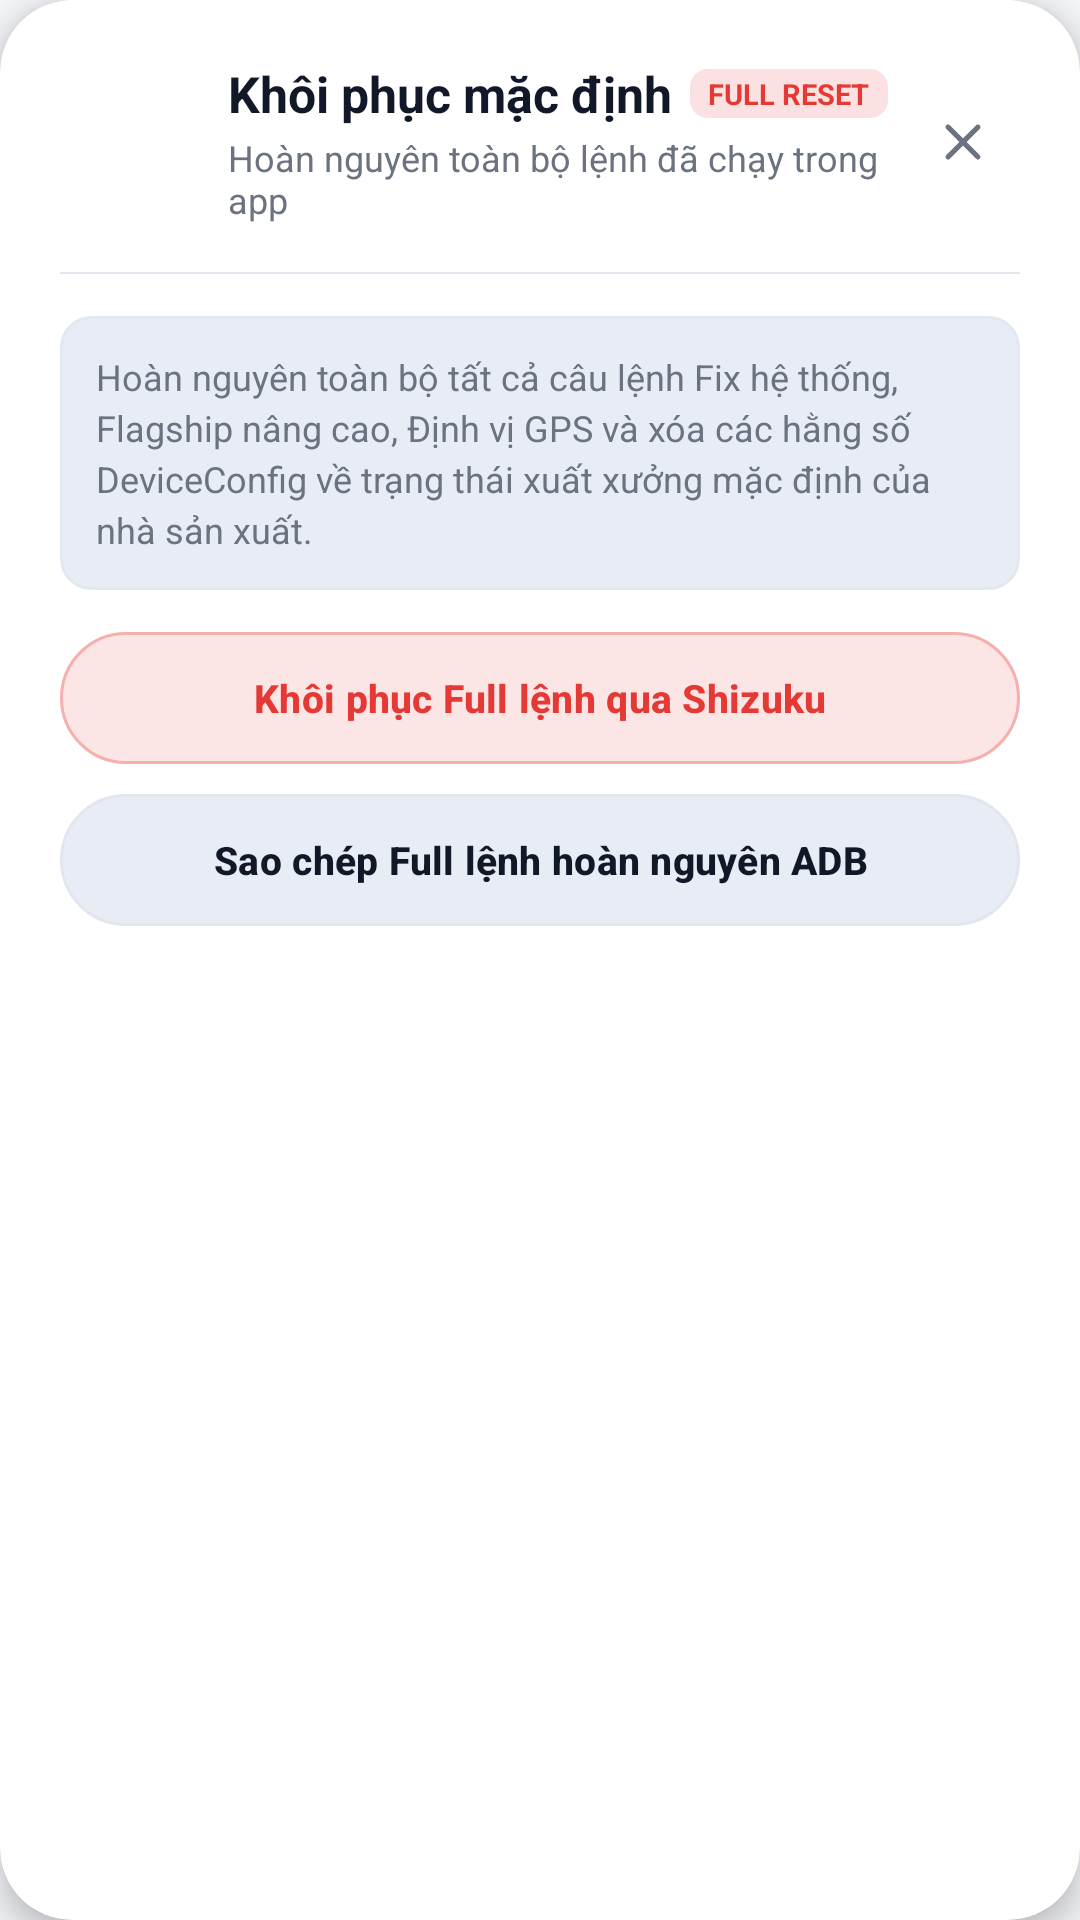

Where icons sit on this 1080w x 1920h app screen, as (x1, y1, x2, y2):
close: (945, 124, 981, 160)
